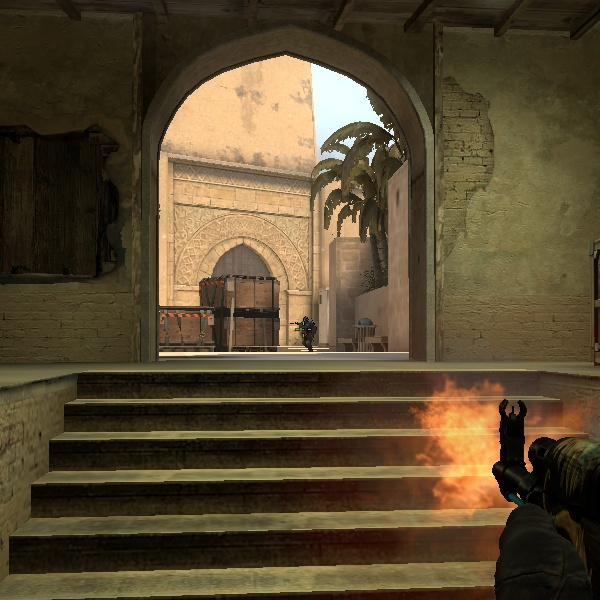ct_body: (294, 316, 322, 351)
ct_head: (301, 315, 311, 325)
